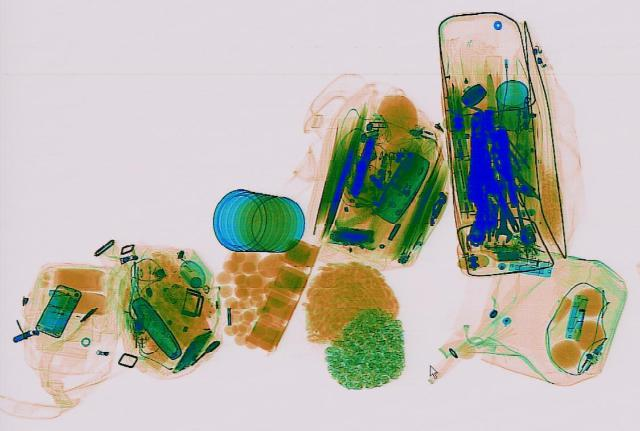Wrench: (492, 192, 512, 241)
